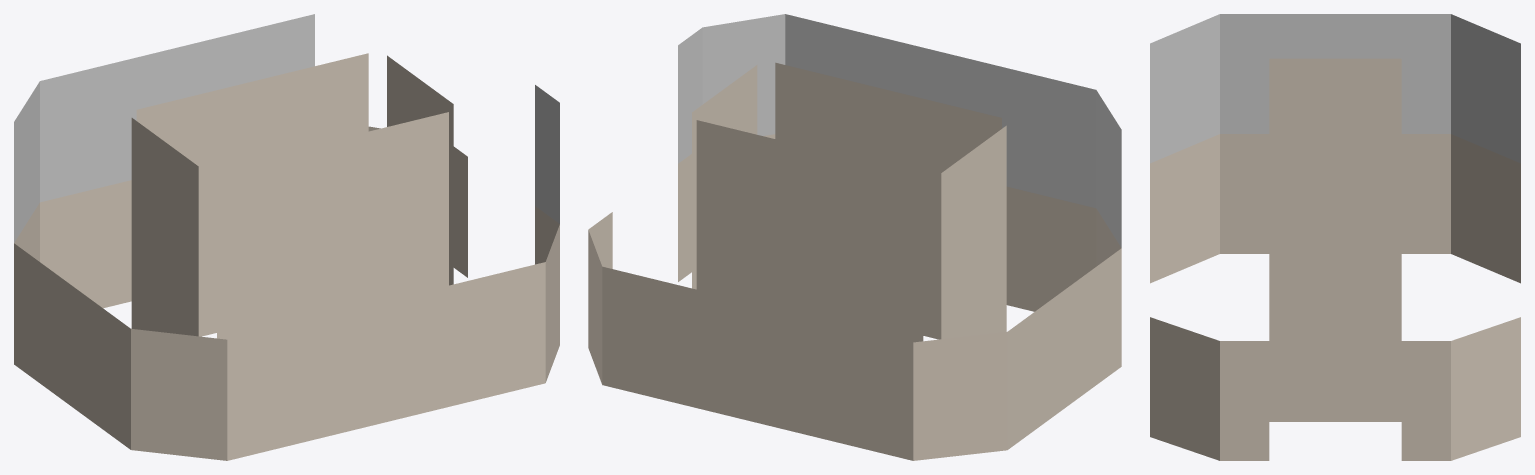
The model's file is LibraryStairsWalls.glb.
3 renders of one model, left to right at view 1: azimuth 30°, elevation 25°; view 2: azimuth 150°, elevation 25°; view 3: azimuth 270°, elevation 25°, orthographic. The views are drawn at different scales.
Visible parts, largest first — view 1: object1.019, object1.013, object1.010, object1.035, object1.009, object1.006, object1.005, object1.001, object1.034, object1.020, object1.018; view 2: object1.009, object1.035, object1.007, object1.013, object1.019, object1.006, object1.020, object1.005, object1.018, object1.034, object1.001; view 3: object1.034, object1.006, object1.001, object1.009, object1.018, object1.019, object1.010, object1.007, object1.003.
Part boxes in pixels (x1=…): object1.019: x1=106, y1=272, x2=502, y2=460; object1.013: x1=217, y1=112, x2=448, y2=339; object1.010: x1=14, y1=14, x2=314, y2=242; object1.035: x1=136, y1=53, x2=368, y2=336; object1.009: x1=14, y1=180, x2=131, y2=382; object1.006: x1=131, y1=118, x2=198, y2=336; object1.005: x1=39, y1=261, x2=105, y2=431; object1.001: x1=502, y1=206, x2=559, y2=393; object1.034: x1=387, y1=55, x2=453, y2=285; object1.020: x1=535, y1=85, x2=559, y2=223; object1.018: x1=368, y1=126, x2=467, y2=277; object1.009: x1=644, y1=277, x2=1031, y2=460; object1.035: x1=696, y1=120, x2=923, y2=342; object1.007: x1=827, y1=24, x2=1121, y2=247; object1.013: x1=775, y1=62, x2=1001, y2=339; object1.019: x1=1006, y1=186, x2=1121, y2=384; object1.006: x1=941, y1=125, x2=1006, y2=339; object1.020: x1=678, y1=14, x2=827, y2=163; object1.005: x1=1032, y1=266, x2=1097, y2=431; object1.018: x1=588, y1=212, x2=644, y2=395; object1.034: x1=692, y1=65, x2=757, y2=289; object1.001: x1=678, y1=134, x2=775, y2=281; object1.034: x1=1269, y1=182, x2=1401, y2=421; object1.006: x1=1269, y1=58, x2=1401, y2=181; object1.001: x1=1150, y1=317, x2=1269, y2=460; object1.009: x1=1401, y1=134, x2=1520, y2=283; object1.018: x1=1401, y1=317, x2=1520, y2=460; object1.019: x1=1150, y1=134, x2=1269, y2=283; object1.010: x1=1401, y1=14, x2=1520, y2=163; object1.007: x1=1150, y1=14, x2=1269, y2=163; object1.003: x1=1269, y1=14, x2=1401, y2=58.
Size of the model in its own units: 3.7 by 2 by 2.8.
